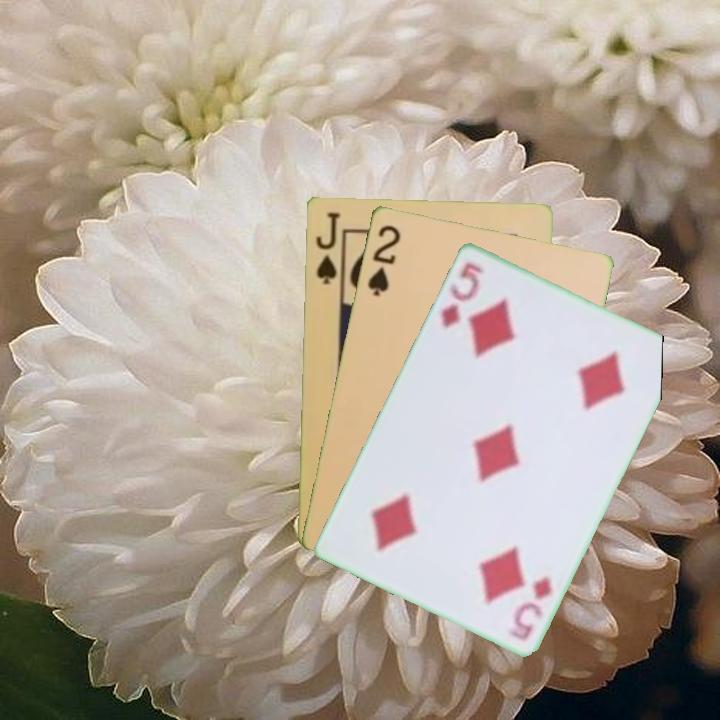2s: (364, 221, 403, 299)
5d: (437, 258, 487, 331), (504, 572, 554, 644)
Js: (312, 208, 342, 287)
